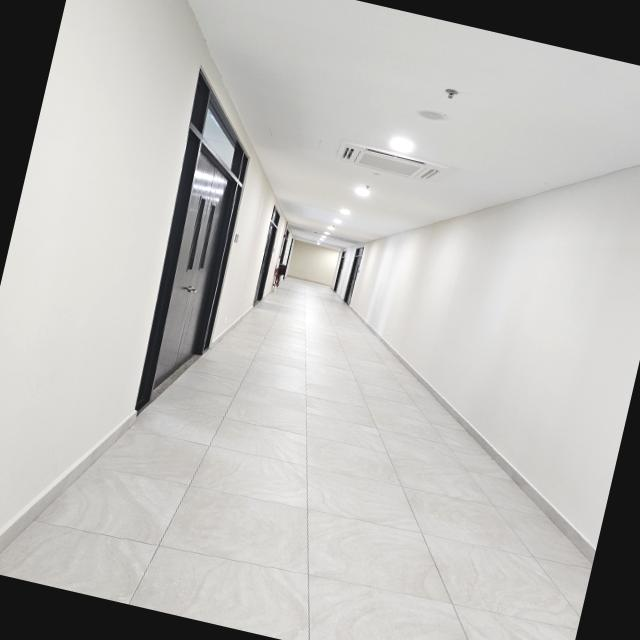door: (135, 138, 252, 418)
footpath: (163, 347, 450, 640)
